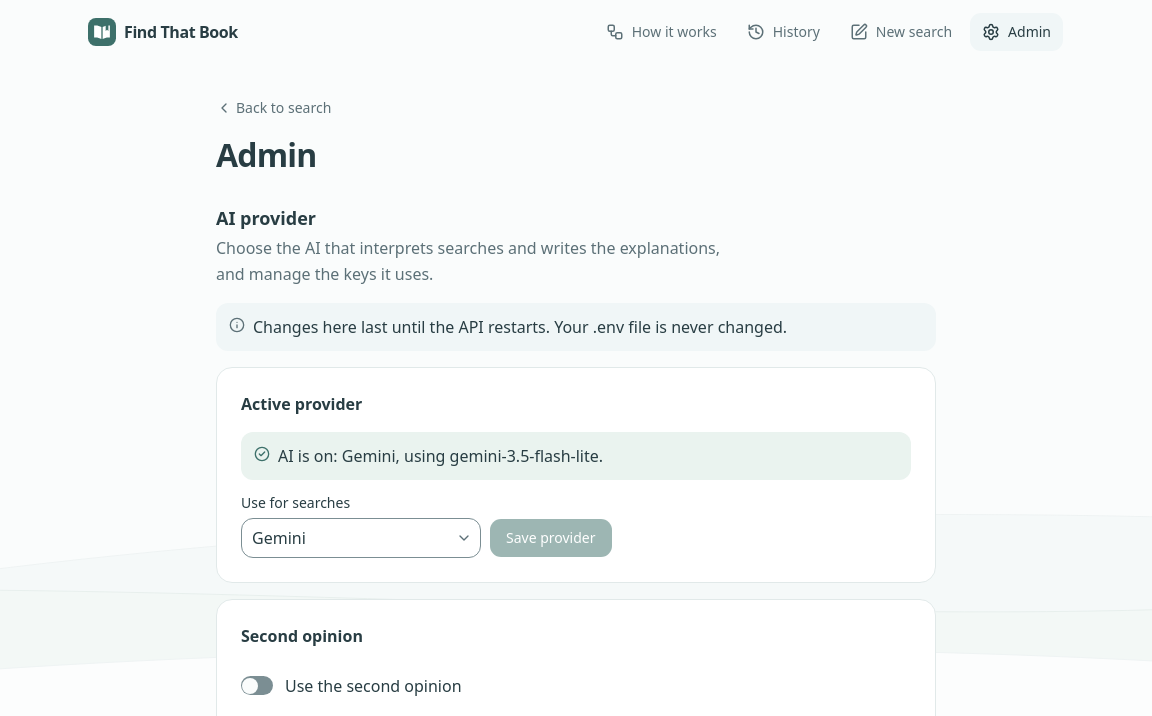
Scenario: Admin page › a status reload that was already running when a change was saved can't undo the change
Click the dropdown named "Use for searches": point(361, 538) top-left (241, 518), bottom-right (481, 558)
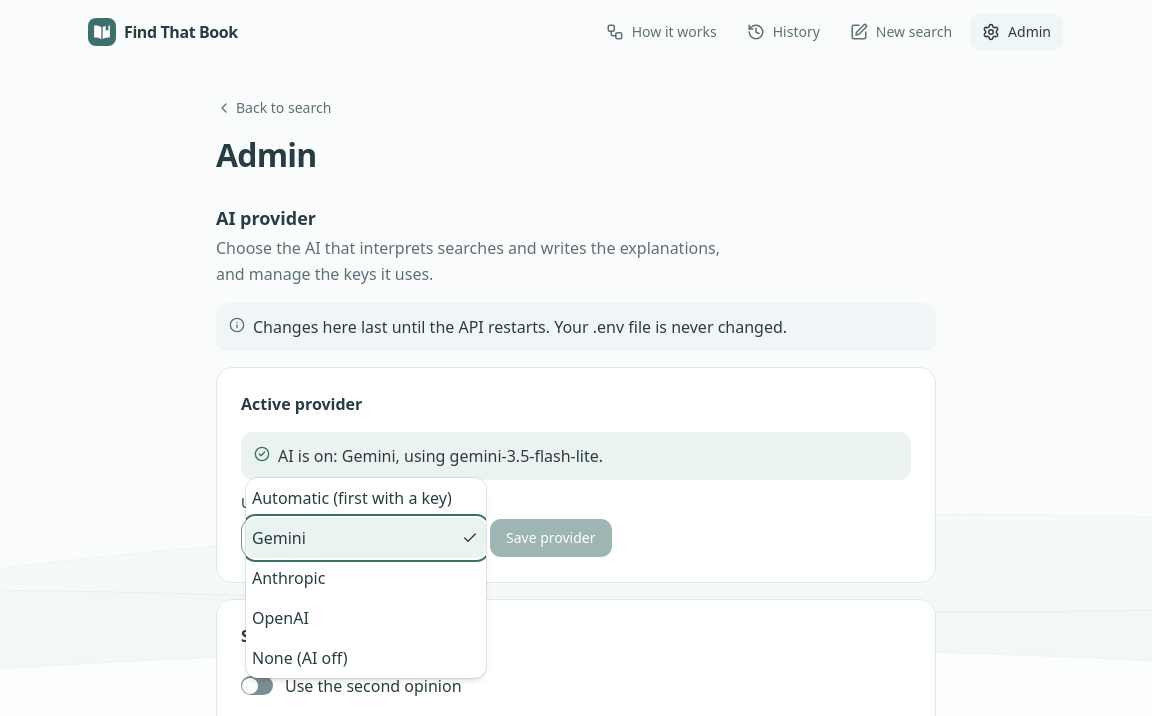
Click the option "OpenAI": point(280, 618) top-left (252, 607), bottom-right (309, 629)
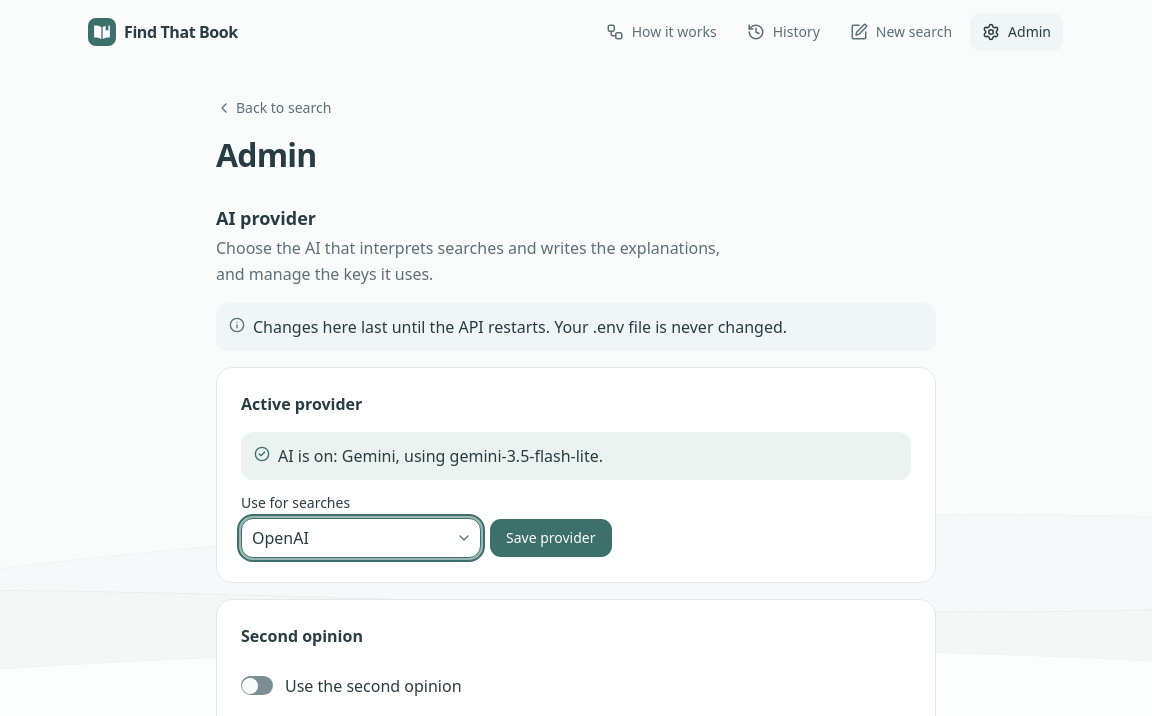
Click the button "Save provider": point(551, 538) top-left (489, 518), bottom-right (612, 558)
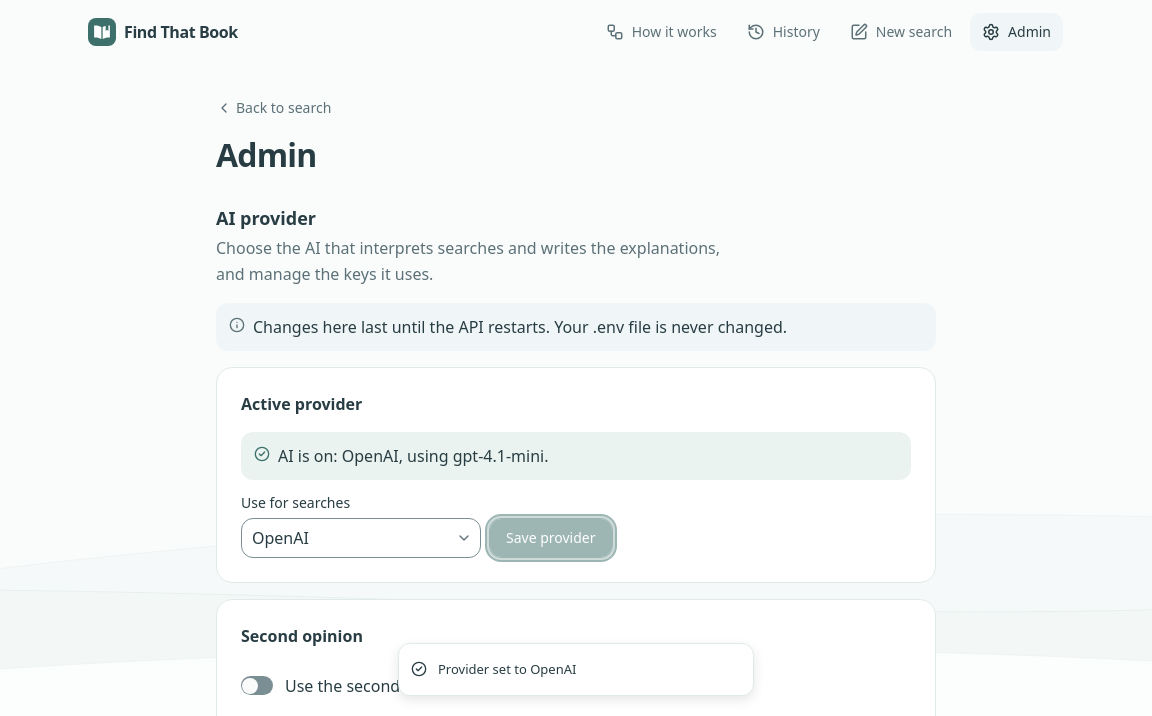
Check: the text "AI is on: OpenAI, using gpt-4.1-mini." is shown, box top-left (278, 443), bottom-right (548, 469)
